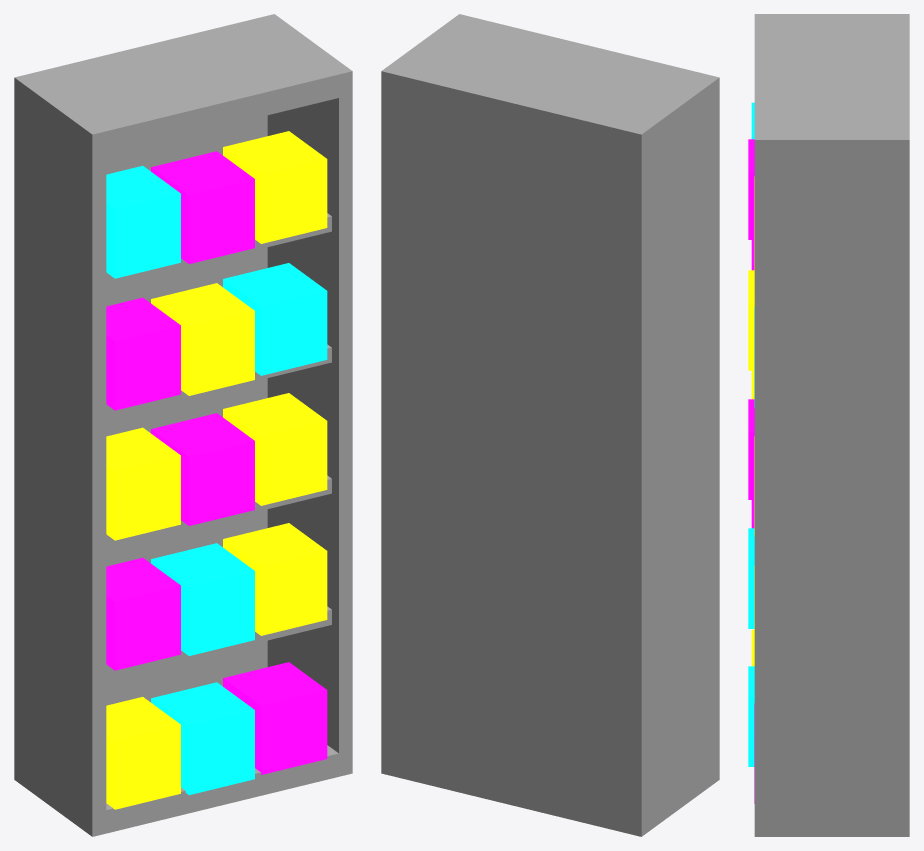
Rendered from shkaf.fbx.
3 renders of one model, left to right at view 1: azimuth 30°, elevation 25°; view 2: azimuth 150°, elevation 25°; view 3: azimuth 270°, elevation 25°, orthographic.
Visible parts, largest first — view 1: Cube.005; view 2: Cube.005; view 3: Cube.005.
Boxes of the visible parts, x1,y1,x2,y2 form: Cube.005: (14, 14, 352, 836); Cube.005: (381, 14, 719, 836); Cube.005: (748, 14, 909, 836).
Bounding box in the file's own units: 85.73 × 158 × 408.
